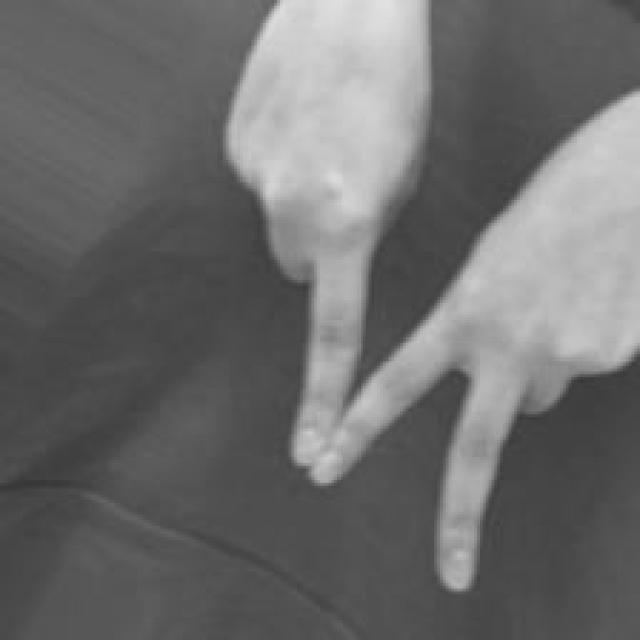N: (225, 0, 640, 591)
